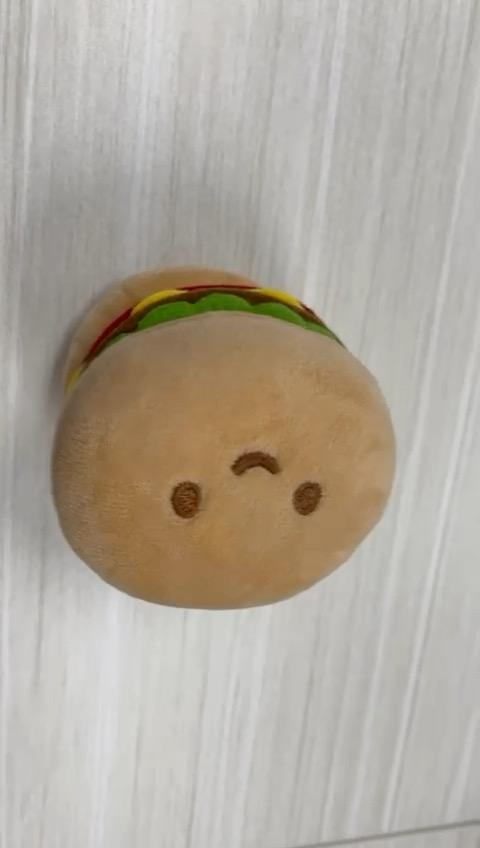hamburger: (53, 270, 401, 607)
